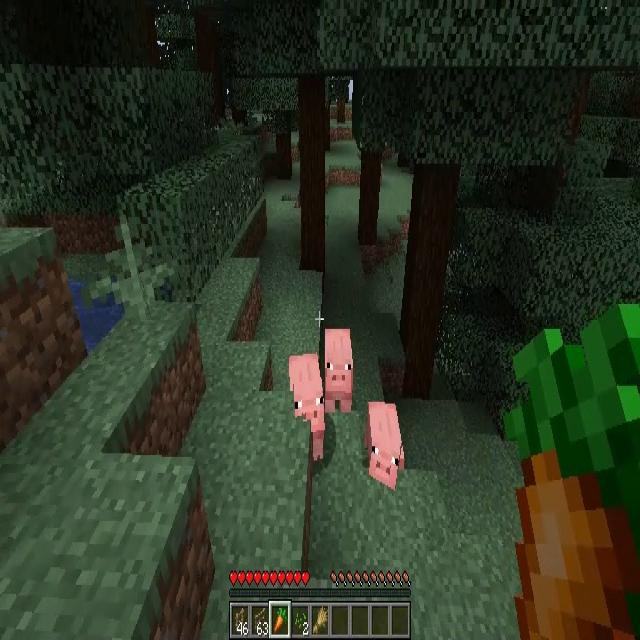pig: (289, 354, 324, 458), (367, 404, 404, 489), (325, 332, 352, 411)
